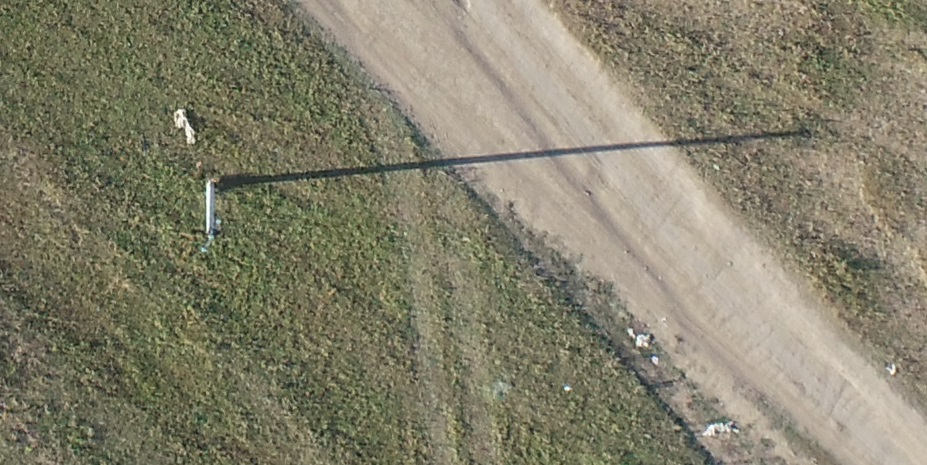opora: (197, 168, 286, 255)
